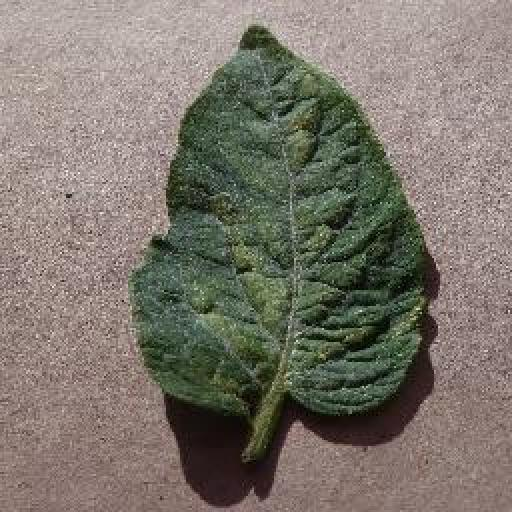disease_tomato: (129, 22, 427, 418)
